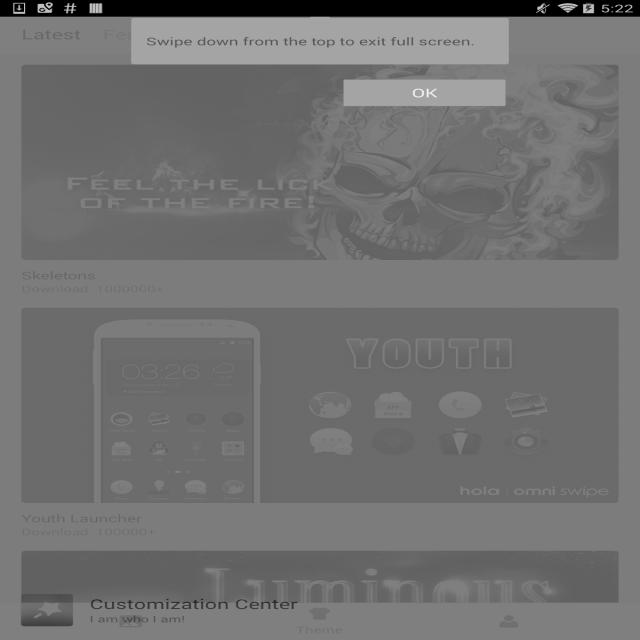ImageView: (21, 65, 619, 260), (21, 308, 619, 503), (21, 550, 618, 640), (119, 582, 142, 596), (308, 574, 331, 588), (498, 582, 520, 596)
TextView: (21, 282, 619, 295), (21, 525, 619, 538), (198, 17, 324, 53), (92, 17, 198, 53), (10, 17, 91, 53), (21, 511, 146, 525), (22, 268, 96, 282), (296, 591, 343, 604)
